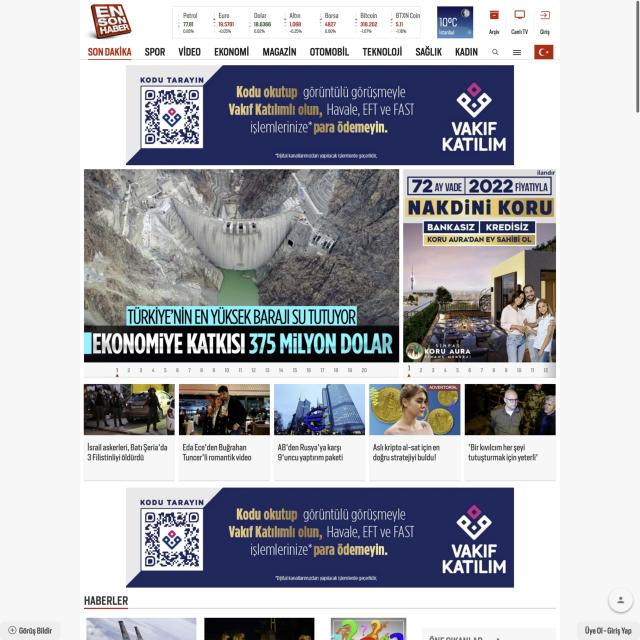CheckBox: (510, 8, 530, 35), (487, 9, 502, 37), (538, 8, 551, 37)
ImageView: (126, 64, 514, 165), (125, 488, 514, 588)
Input field: (86, 442, 168, 462), (468, 443, 538, 463), (182, 443, 252, 462), (278, 443, 343, 463), (372, 443, 440, 462)
QR code: (172, 6, 422, 40)
RadioButton: (426, 384, 461, 391)
Spinner: (369, 384, 461, 481), (464, 384, 556, 480), (274, 384, 366, 480), (83, 384, 175, 480), (179, 384, 270, 480)
accordion: (81, 605, 558, 612)
bag: (79, 0, 562, 62)
breadcrumbs: (82, 593, 131, 614)
card: (83, 170, 400, 362)
carousel: (608, 587, 634, 614), (534, 44, 554, 60), (488, 10, 499, 20), (540, 10, 550, 20), (514, 10, 525, 19), (512, 49, 522, 56), (492, 48, 499, 56)
copy: (403, 169, 556, 363), (84, 384, 175, 436), (179, 384, 270, 436), (465, 384, 556, 435), (274, 384, 364, 435), (370, 384, 460, 435)
data feed: (488, 28, 501, 36), (511, 29, 528, 35), (540, 28, 550, 37)
date picker: (90, 3, 134, 38)
decoration: (512, 49, 522, 57)
dropdown: (111, 363, 371, 378), (406, 364, 553, 378)
icon: (81, 45, 482, 64)
